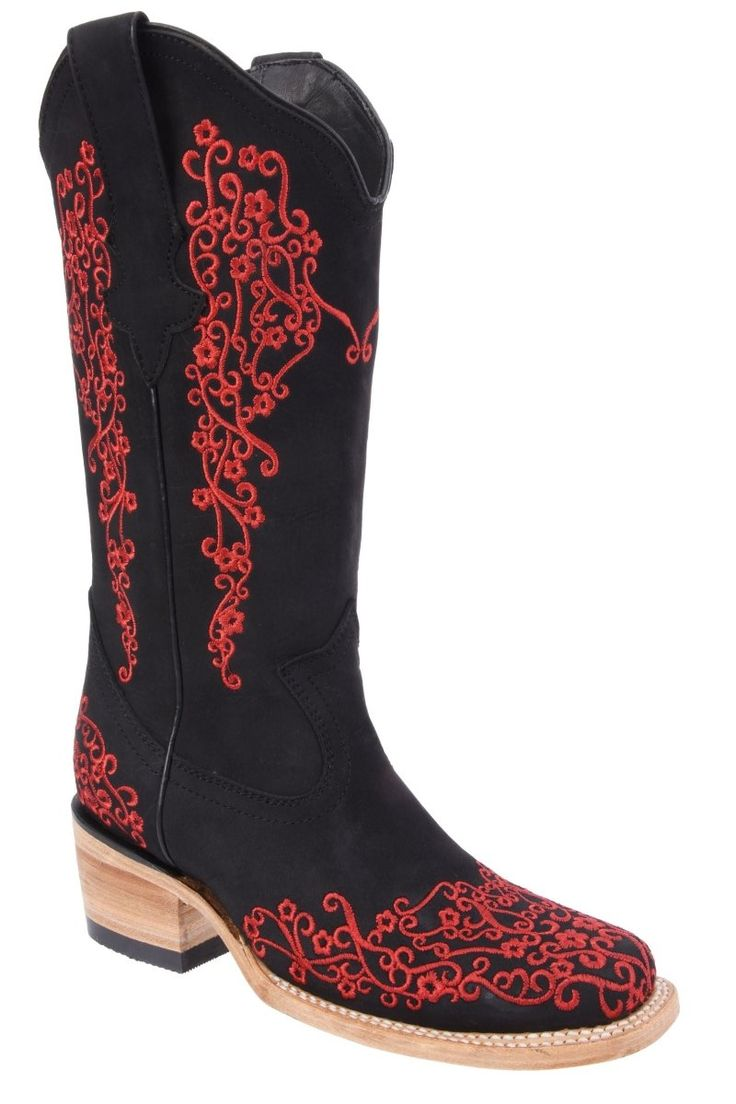gamuza: (35, 13, 658, 1034)
